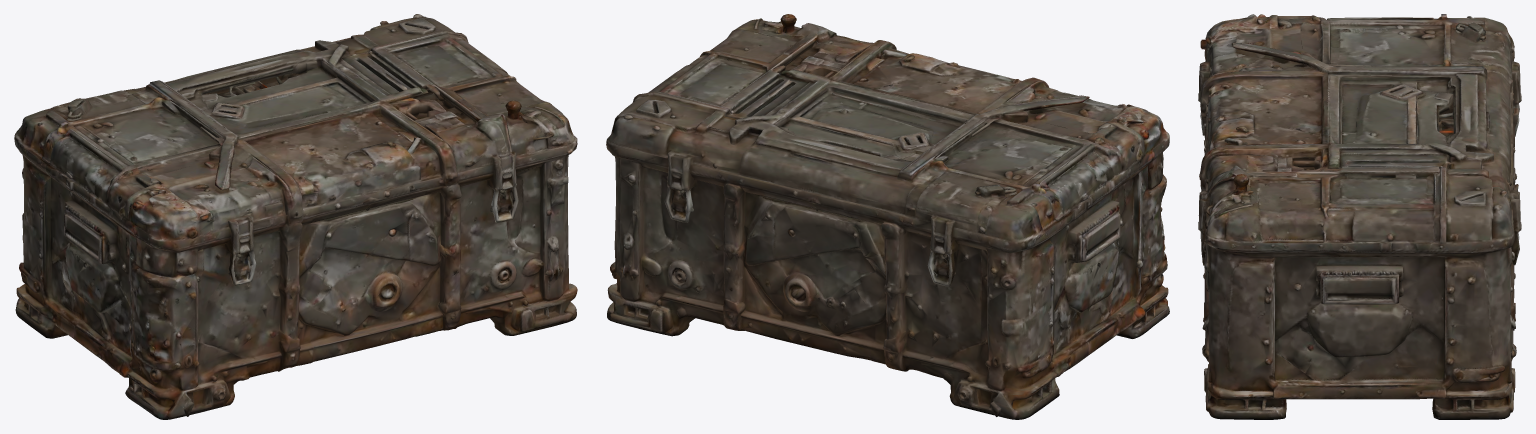
The model's file is tripo_convert_59363eeb-ec56-41b2-a141-05b355759bdf.fbx.
The picture shows the model from 3 angles, left to right: view 1: azimuth 30°, elevation 25°; view 2: azimuth 150°, elevation 25°; view 3: azimuth 270°, elevation 25°; orthographic projection.
Parts seen in each view (by area): view 1: tripo_node_59363eeb; view 2: tripo_node_59363eeb; view 3: tripo_node_59363eeb.
Boxes of the visible parts, x1,y1,x2,y2 form: tripo_node_59363eeb: (14, 14, 577, 419); tripo_node_59363eeb: (606, 14, 1169, 419); tripo_node_59363eeb: (1198, 14, 1521, 419).
Size of the model in its own units: 97.93 by 63.51 by 47.69.
Materials: 1 (1 with a texture image).
